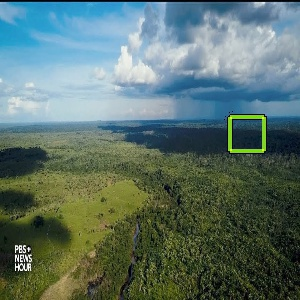square: (226, 113, 268, 155)
